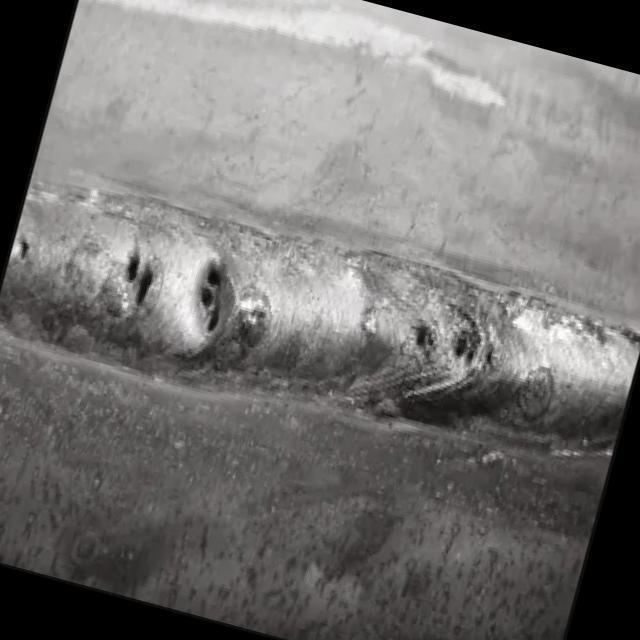defect: (115, 239, 158, 316), (192, 254, 227, 344), (446, 324, 497, 372), (407, 313, 446, 360), (10, 233, 32, 266)
